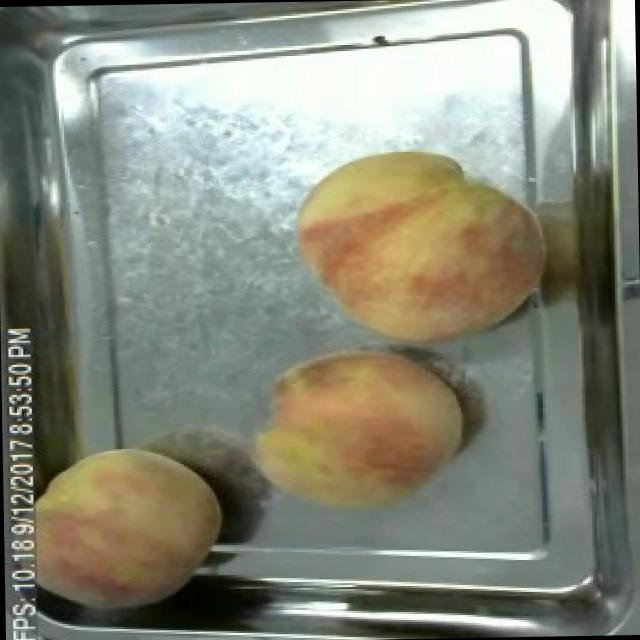Fruit: (284, 134, 554, 359), (15, 434, 228, 636), (243, 336, 470, 524)
